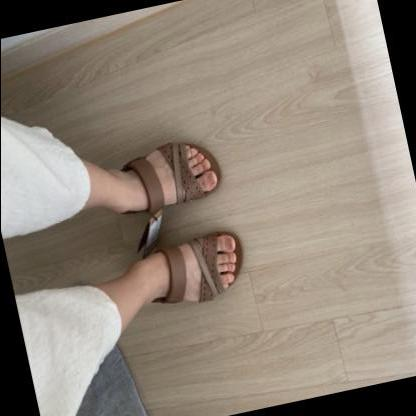no_safety-shoe: (122, 220, 260, 339), (96, 131, 233, 221)
